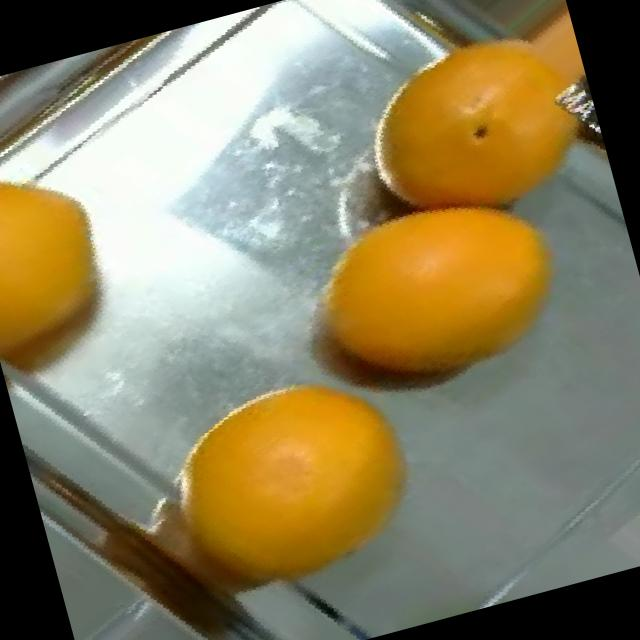Fruit: (321, 19, 541, 250)
